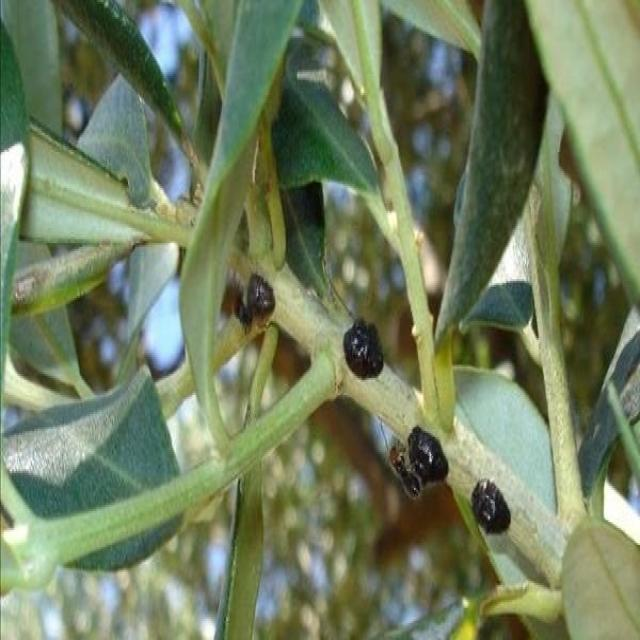Black Scale: (234, 273, 274, 336), (407, 427, 448, 486), (343, 319, 383, 378), (471, 479, 510, 534)
